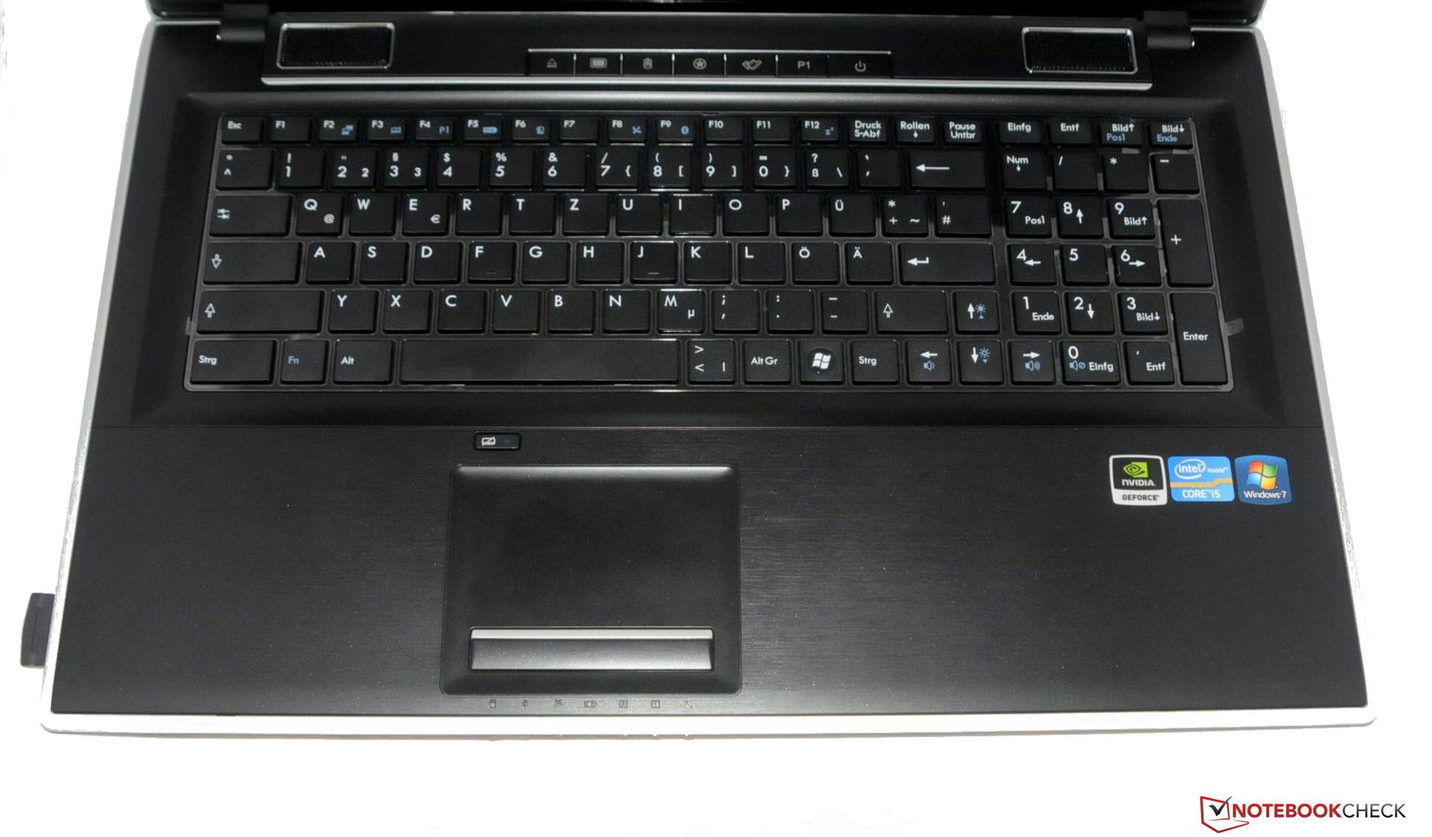0: (747, 144, 794, 184)
1: (273, 145, 321, 186)
2: (324, 142, 373, 185)
3: (377, 142, 425, 184)
4: (431, 143, 477, 185)
5: (483, 142, 530, 184)
6: (536, 142, 583, 184)
7: (589, 141, 637, 184)
8: (642, 141, 689, 186)
9: (696, 142, 742, 185)
a: (301, 237, 351, 280)
accent: (854, 145, 899, 186)
ae: (841, 238, 891, 282)
alt-left: (328, 334, 390, 382)
altgr-right: (738, 333, 790, 381)
b: (541, 284, 593, 331)
c: (433, 284, 483, 329)
caret: (211, 145, 267, 186)
comma: (708, 285, 756, 330)
d: (409, 236, 458, 281)
del: (905, 145, 982, 186)
e: (398, 188, 446, 233)
enter: (894, 237, 990, 280)
f: (464, 236, 512, 280)
g: (517, 236, 566, 281)
h: (571, 236, 621, 281)
hash: (932, 192, 988, 233)
i: (665, 189, 712, 232)
j: (626, 236, 673, 280)
k: (680, 236, 729, 281)
keyboard: (145, 76, 1251, 415)
l: (734, 237, 783, 282)
less: (682, 333, 734, 382)
m: (652, 283, 702, 332)
minus: (816, 285, 865, 330)
n: (598, 284, 647, 330)
o: (717, 189, 765, 233)
oe: (788, 237, 836, 282)
p: (772, 189, 819, 233)
plus: (878, 190, 926, 234)
point: (762, 285, 811, 330)
q: (290, 188, 341, 233)
r: (451, 189, 499, 233)
s: (356, 237, 404, 281)
shift-left: (193, 283, 320, 329)
shift-lock: (198, 236, 296, 280)
shift-right: (871, 284, 945, 329)
space: (396, 333, 679, 382)
ss: (801, 145, 847, 184)
strg-left: (186, 337, 277, 385)
strg-right: (846, 335, 897, 382)
t: (504, 189, 552, 232)
tab: (206, 189, 286, 233)
u: (611, 189, 658, 233)
ue: (824, 190, 873, 233)
v: (487, 284, 537, 330)
w: (345, 188, 392, 233)
x: (377, 285, 428, 330)
y: (324, 285, 374, 330)
z: (558, 189, 604, 233)
